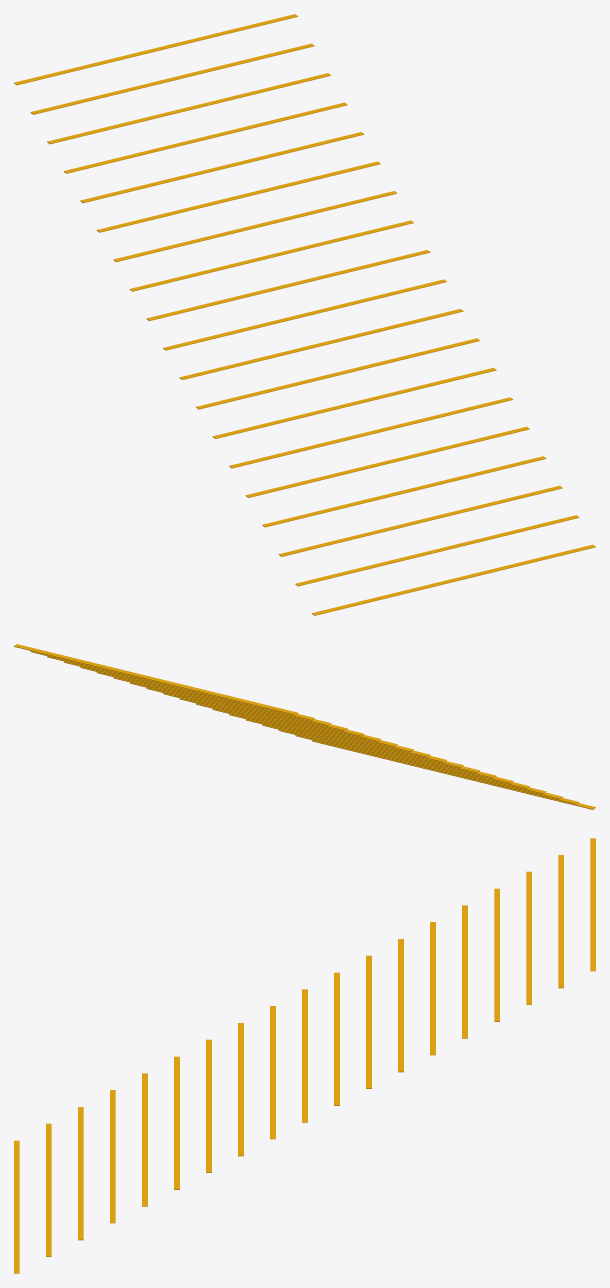
File: gteki_ik_stair_n19_r176_t304_w2999_nosing.glb
The picture shows the model from 3 angles, top to bottom: view 1: azimuth 30°, elevation 25°; view 2: azimuth 150°, elevation 25°; view 3: azimuth 270°, elevation 25°; orthographic projection. The views are drawn at different scales.
Parts seen in each view (by area): view 1: VIS_body; view 2: VIS_body; view 3: VIS_body.
Part boxes in pixels (left/top/right/bottom): VIS_body: left=14, top=14, right=595, bottom=615; VIS_body: left=14, top=644, right=595, bottom=809; VIS_body: left=14, top=838, right=595, bottom=1273.
Bounding box in the file's own units: 2.98 × 3.17 × 5.53.
Materials: 1 (1 with a texture image).
